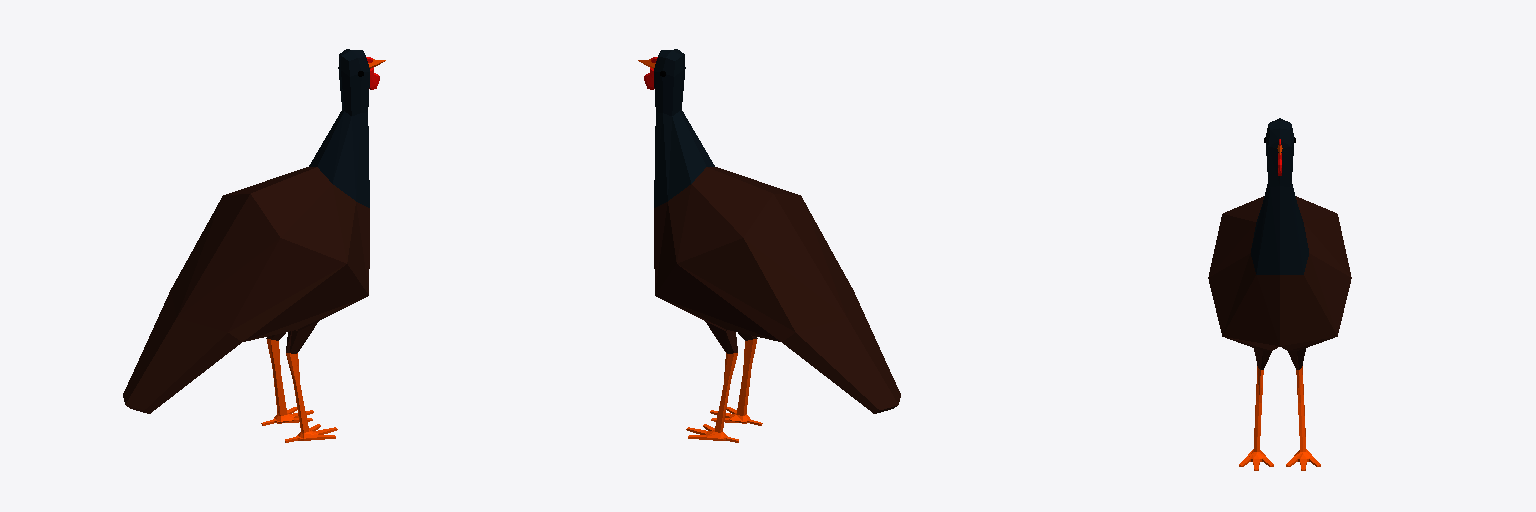
File: Turkey_01.obj
The picture shows the model from 3 angles: view 1: azimuth 30°, elevation 25°; view 2: azimuth 150°, elevation 25°; view 3: azimuth 270°, elevation 25°; orthographic projection.
Parts seen in each view (by area): view 1: Turkey_01_Cube.056; view 2: Turkey_01_Cube.056; view 3: Turkey_01_Cube.056.
Boxes of the visible parts, x1=… form: Turkey_01_Cube.056: x1=123, y1=49, x2=385, y2=442; Turkey_01_Cube.056: x1=638, y1=49, x2=900, y2=442; Turkey_01_Cube.056: x1=1208, y1=118, x2=1351, y2=470.
Size of the model in its own units: 11.19 by 14.91 by 5.32.